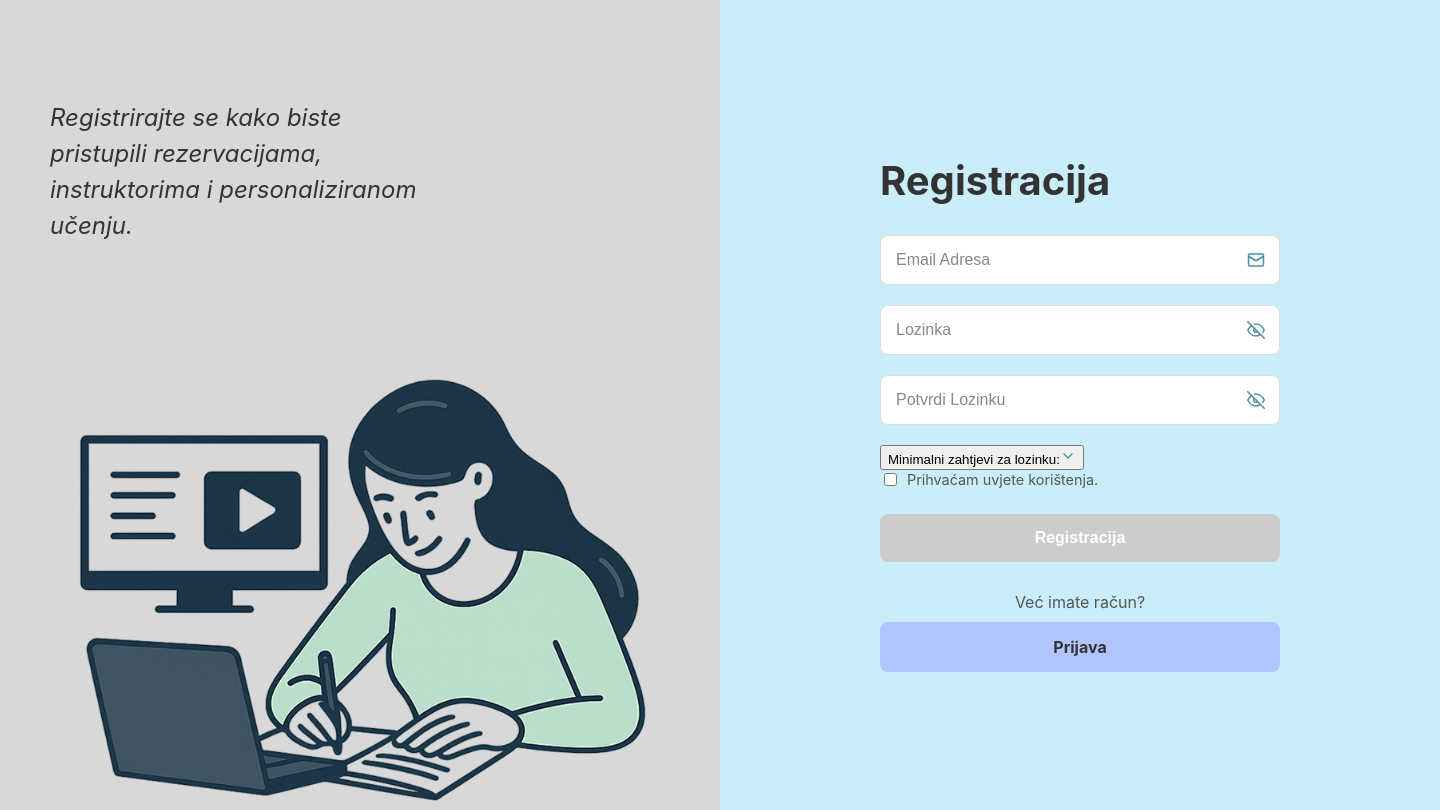
RegisterEmail component › Test 1: Uspjesna registracija emaila, prikazuje popup za potvrdu emaila i ne navigira
Expected: the button "Registracija" is disabled, [880, 514, 1280, 562]
Step 1. Type "novi.korisnik@test.com" into the field with placeholder "Email Adresa" → (1080, 260), box [880, 235, 1280, 285]
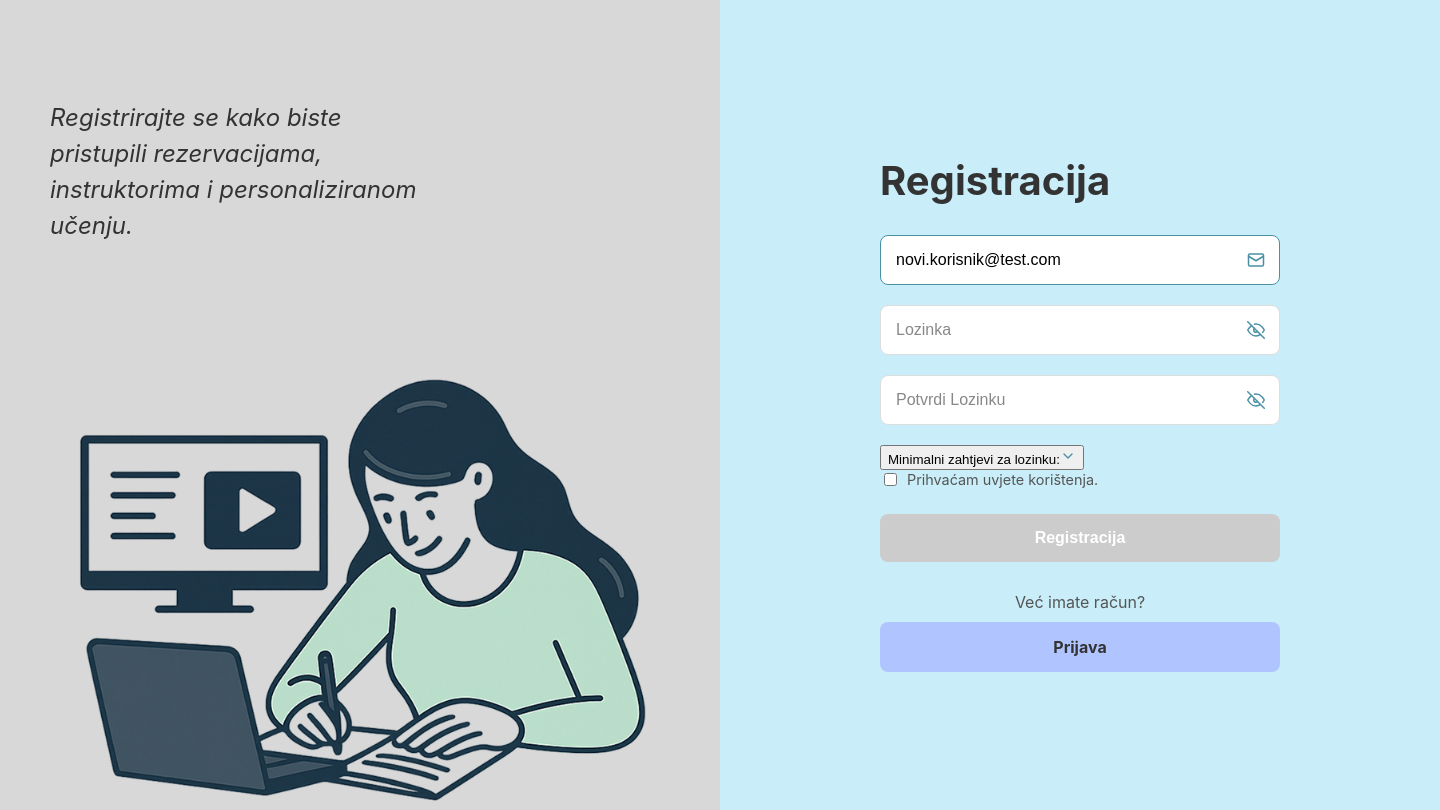
Step 2. Type "Password123" into the password field with placeholder "Lozinka" → (1080, 330), box [880, 305, 1280, 355]
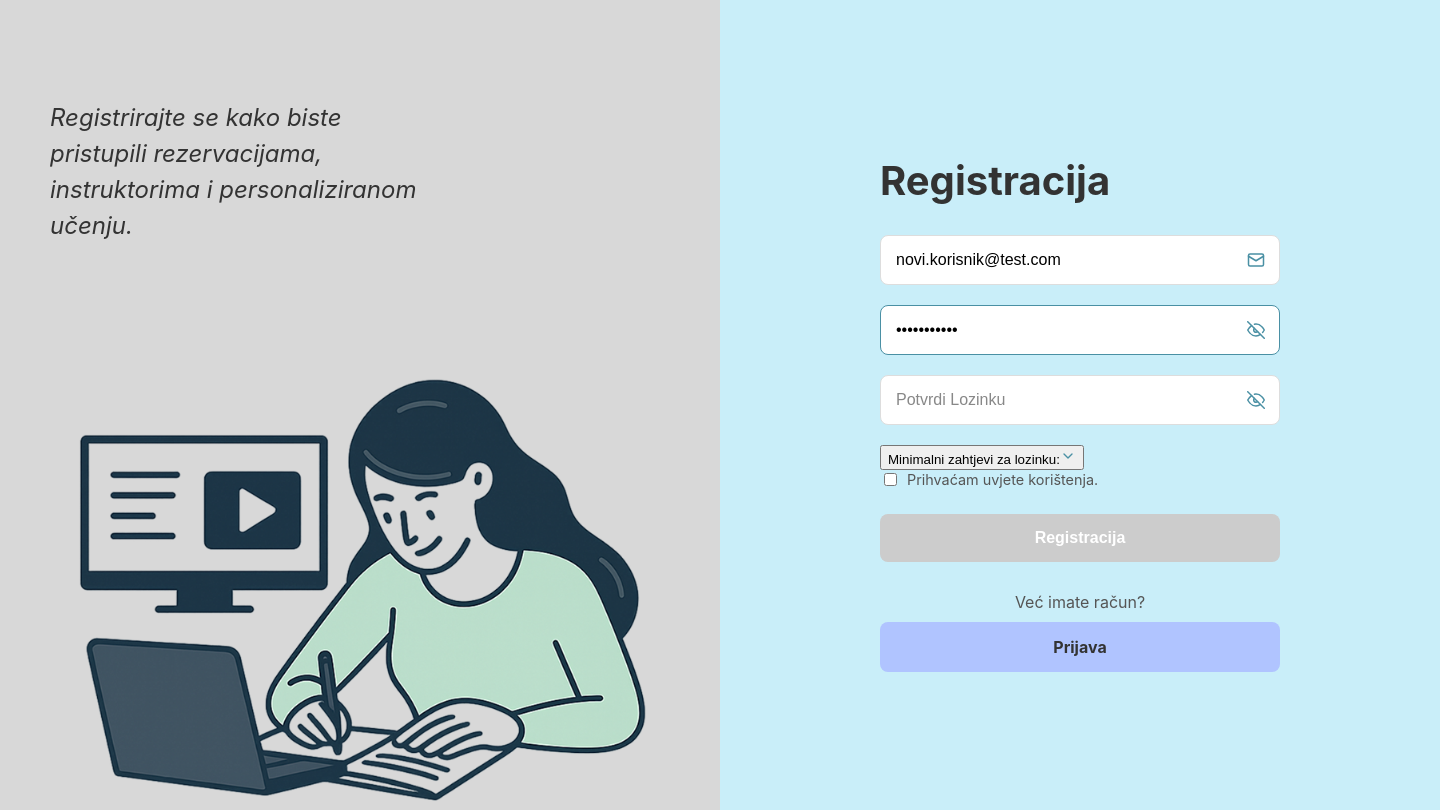
Step 3. Type "Password123" into the password field with placeholder "Potvrdi Lozinku" → (1080, 400), box [880, 375, 1280, 425]
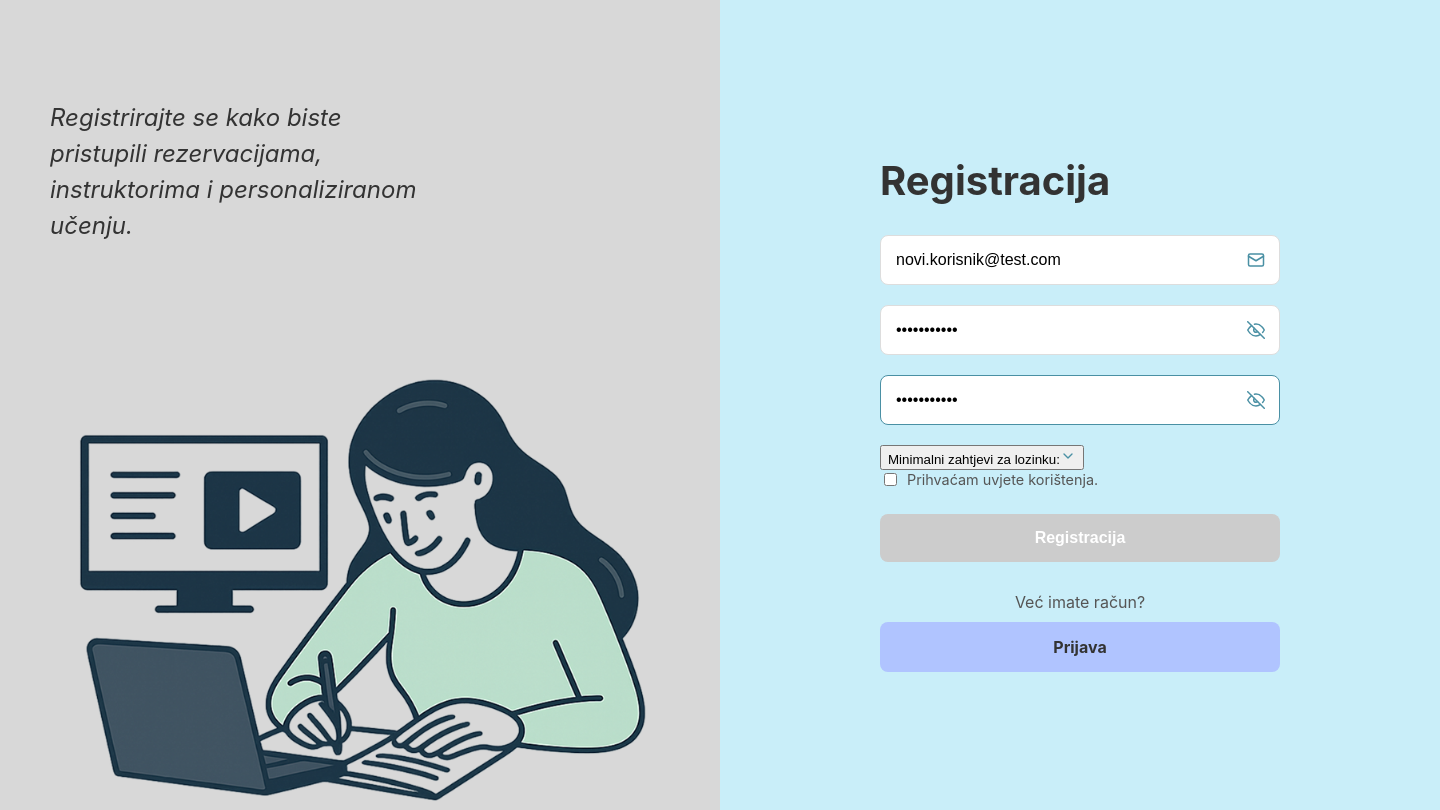
Note: označimo checkbox
Step 4. Click the checkbox labelled "Prihvaćam uvjete korištenja." → (890, 480), box [884, 473, 897, 486]
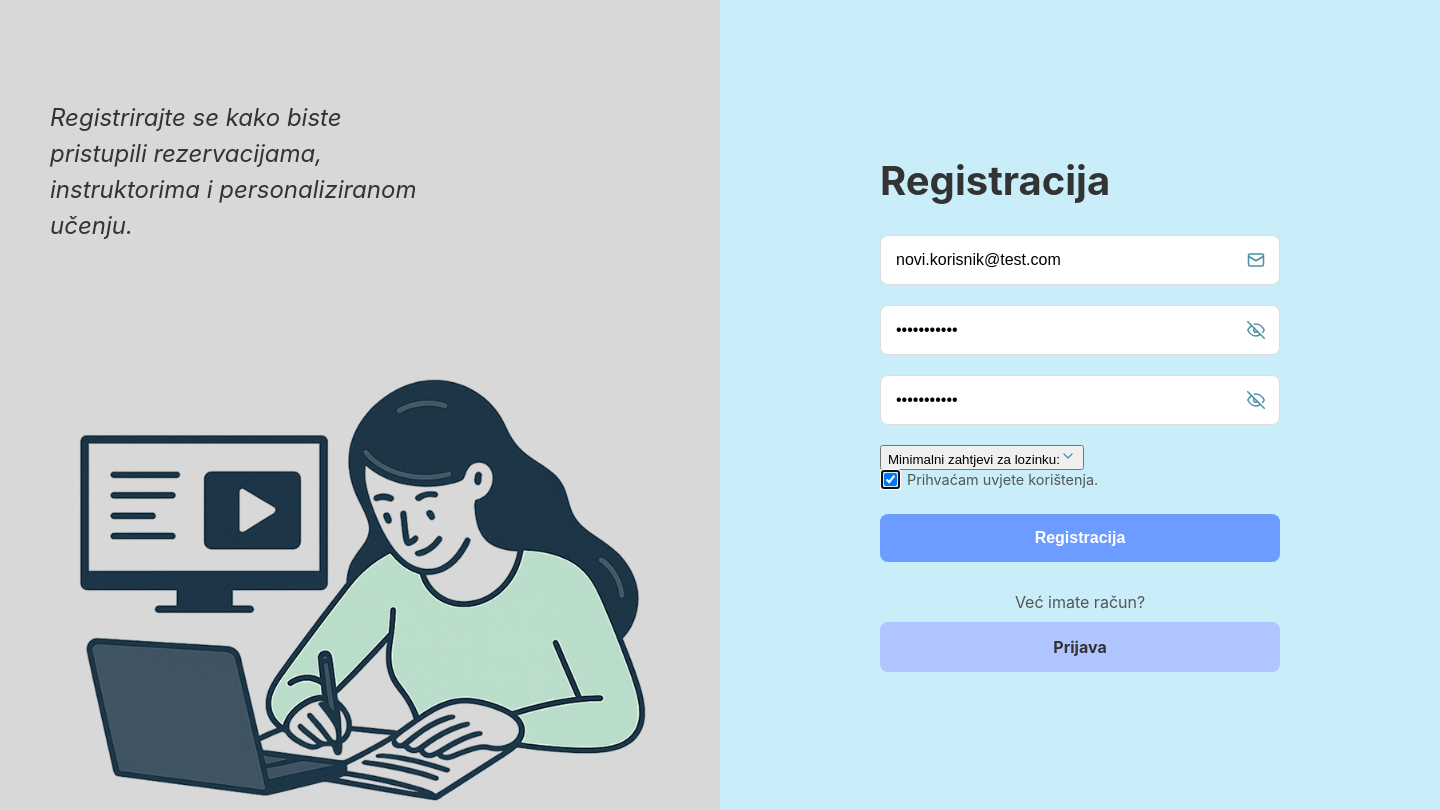
Expected: the checkbox labelled "Prihvaćam uvjete korištenja." is checked, [884, 473, 897, 486]
Expected: the button "Registracija" is enabled
Step 5. Click the button "Registracija" → (1080, 538), box [880, 514, 1280, 562]
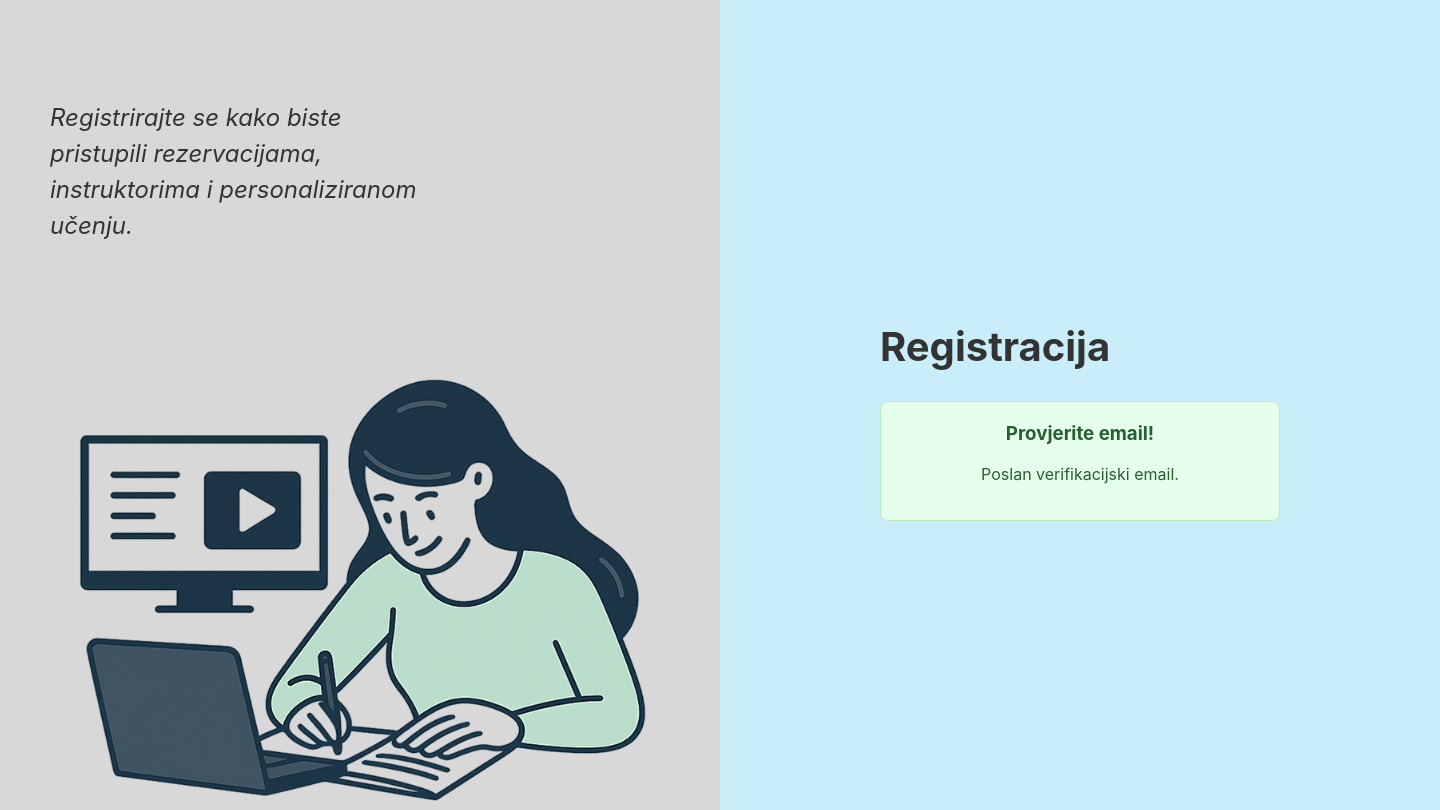
Expected: the heading "Provjerite email!" is shown, [1006, 422, 1154, 445]
Expected: the text "Poslan verifikacijski email." is shown, [981, 464, 1179, 484]
